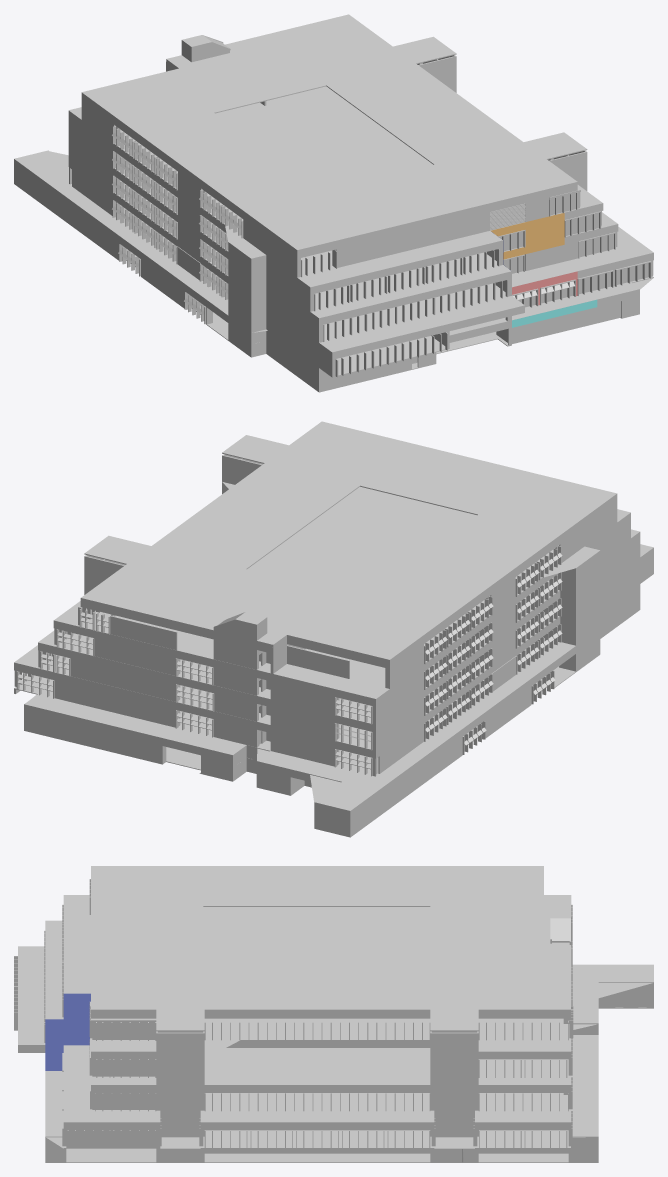
The model's file is library_projection.fbx.
The picture shows the model from 3 angles, top to bottom: view 1: azimuth 30°, elevation 25°; view 2: azimuth 150°, elevation 25°; view 3: azimuth 270°, elevation 25°; orthographic projection. The views are drawn at different scales.
Visible parts, largest first — view 1: Library, Video Screens; view 2: Library; view 3: Library, Video Screens.
Boxes of the visible parts, bbox=[...] form: Library: bbox=[14, 14, 653, 392]; Video Screens: bbox=[490, 213, 597, 327]; Library: bbox=[14, 421, 653, 837]; Library: bbox=[14, 866, 653, 1162]; Video Screens: bbox=[45, 993, 90, 1070].
Size of the model in its own units: 76144 by 28438 by 110906.
